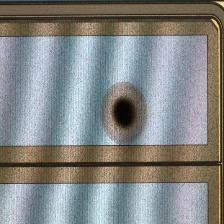PARTICLE: (101, 81, 148, 145)
